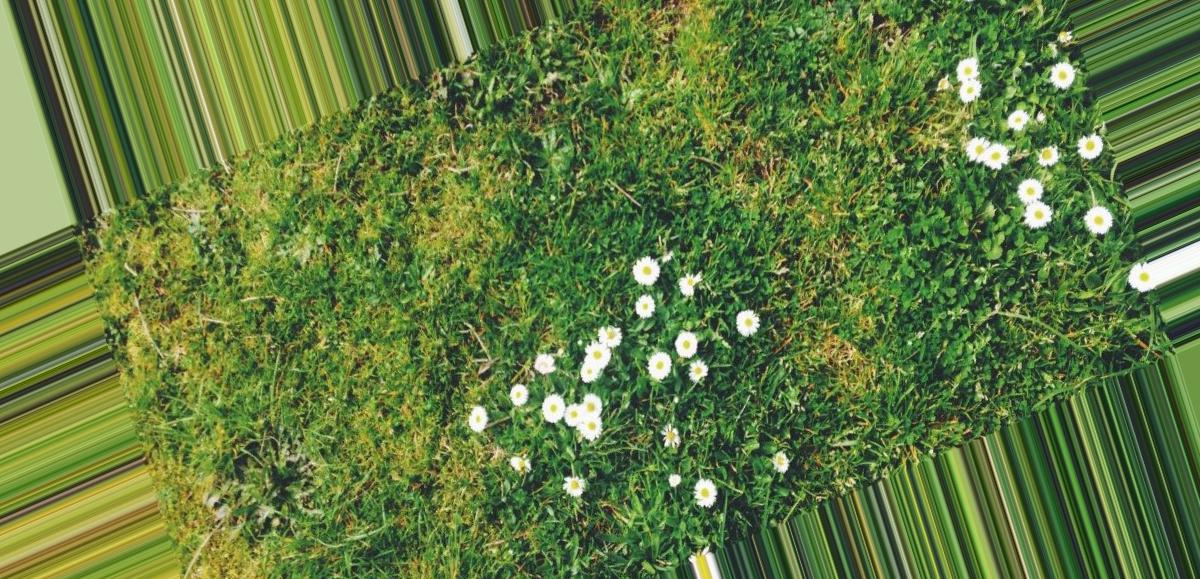patch: (613, 56, 856, 147), (734, 158, 906, 282), (153, 216, 359, 284), (214, 456, 346, 539), (344, 135, 566, 183)
